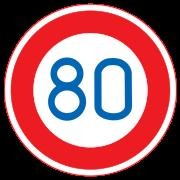Speed Limit -80-: (34, 38, 146, 140)
